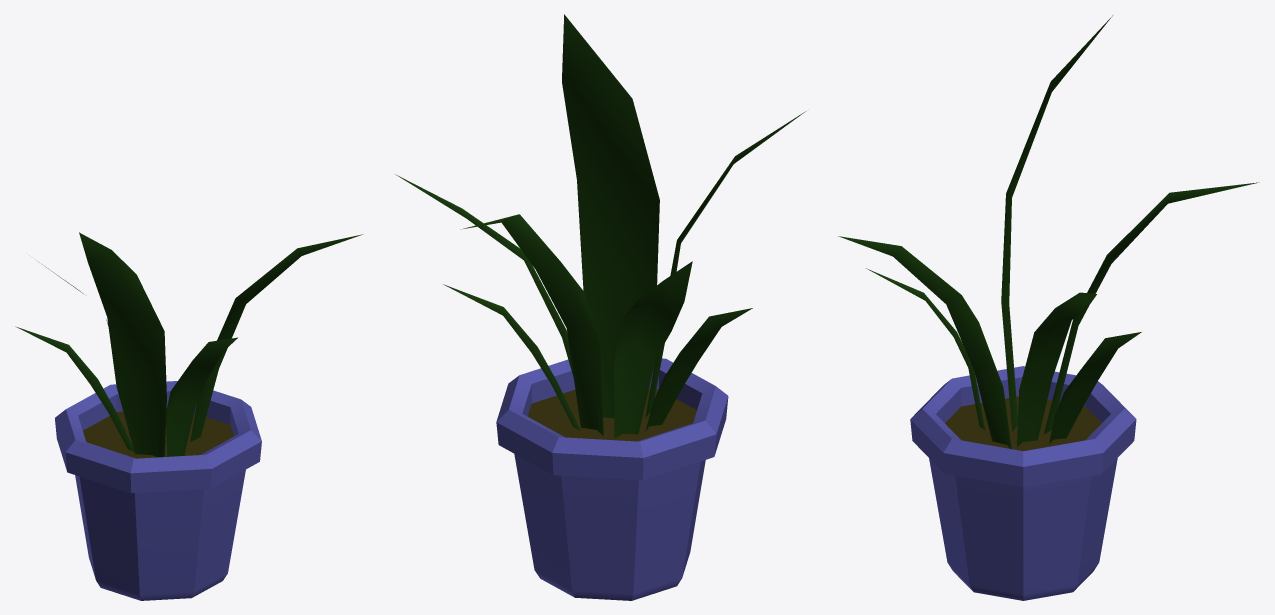
The model's file is plant_lowpoly.fbx.
3 views of the same model, side by side, from view 1: azimuth 30°, elevation 25°; view 2: azimuth 150°, elevation 25°; view 3: azimuth 270°, elevation 25° (orthographic). The views are drawn at different scales.
Visible parts, largest first — view 1: Houseplant_1; view 2: Houseplant_1; view 3: Houseplant_1.
Part boxes in pixels (box(x1,y1,x2,y2)): Houseplant_1: box(15, 232, 362, 600); Houseplant_1: box(395, 14, 805, 600); Houseplant_1: box(838, 15, 1259, 600).
Size of the model in its own units: 3.3 by 5.68 by 3.88.
